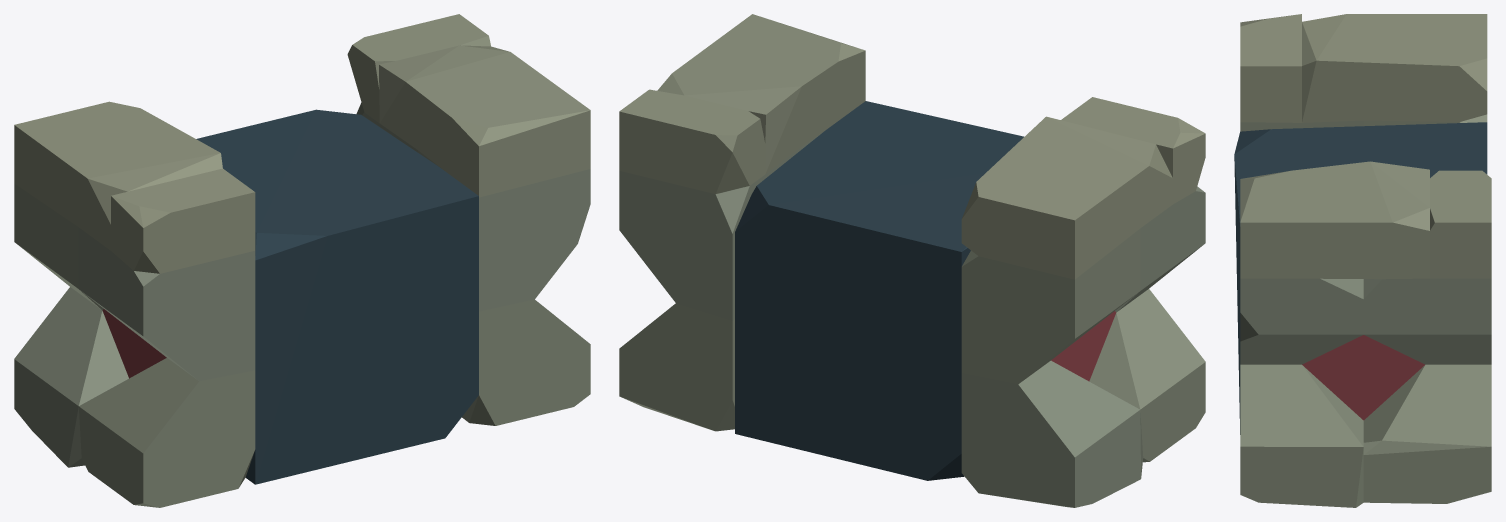
Rendered from bridge_element_1x1x1_1.fbx.
3 views of the same model, side by side, from view 1: azimuth 30°, elevation 25°; view 2: azimuth 150°, elevation 25°; view 3: azimuth 270°, elevation 25° (orthographic). The views are drawn at different scales.
Parts seen in each view (by area): view 1: bridge_element_1x1x1_1; view 2: bridge_element_1x1x1_1; view 3: bridge_element_1x1x1_1.
Boxes of the visible parts, bbox=[...] form: bridge_element_1x1x1_1: bbox=[14, 14, 590, 507]; bridge_element_1x1x1_1: bbox=[619, 14, 1205, 507]; bridge_element_1x1x1_1: bbox=[1234, 14, 1491, 507].
Size of the model in its own units: 204 by 133 by 104.
